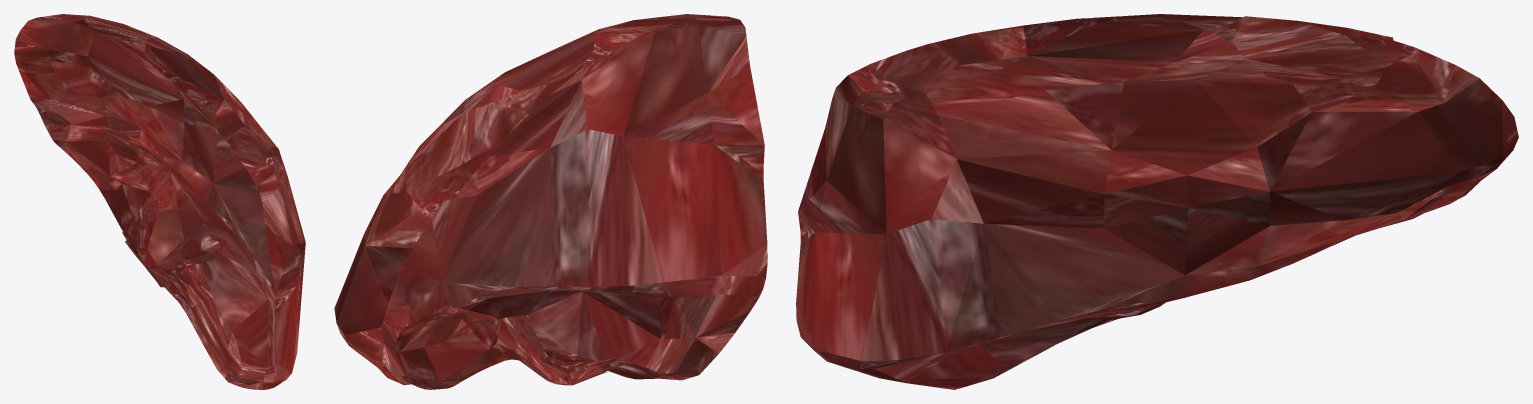
The model's file is leber256.FBX.
The picture shows the model from 3 angles, left to right: view 1: azimuth 30°, elevation 25°; view 2: azimuth 150°, elevation 25°; view 3: azimuth 270°, elevation 25°; orthographic projection. The views are drawn at different scales.
Visible parts, largest first — view 1: pSphere8; view 2: pSphere8; view 3: pSphere8.
Boxes of the visible parts, <box> form: pSphere8: <box>14,14,305,389</box>; pSphere8: <box>334,14,767,389</box>; pSphere8: <box>796,14,1518,389</box>.
Bounding box in the file's own units: 1.2 × 3.33 × 6.02.
